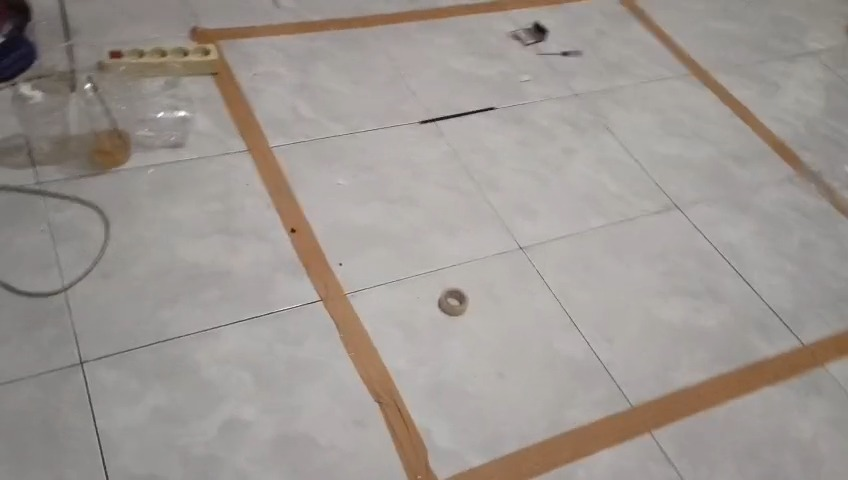floor marking: (217, 54, 437, 479), (448, 330, 847, 479), (620, 0, 847, 218), (192, 0, 584, 45)
